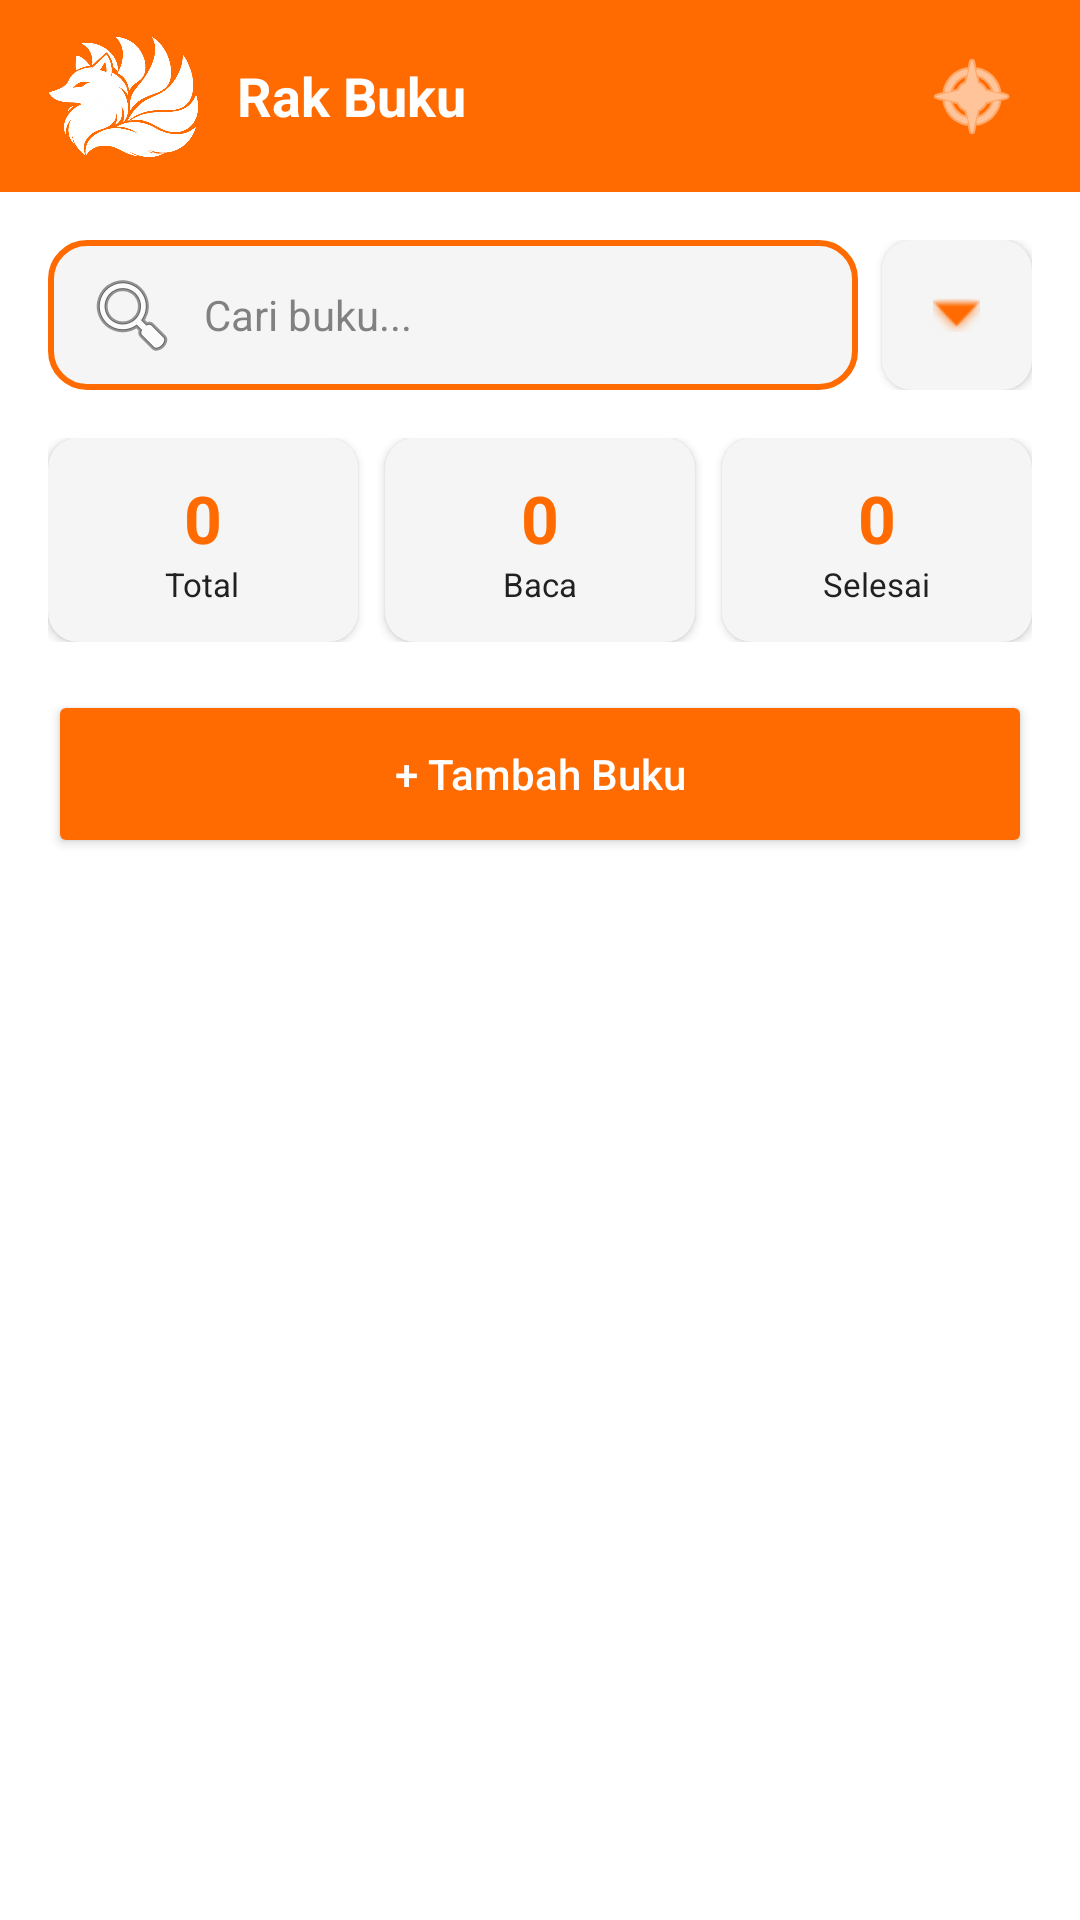

Screen size 1080*1920. Icon name, then its center in pixels as point (x, y):
arrow down float: point (956, 315)
